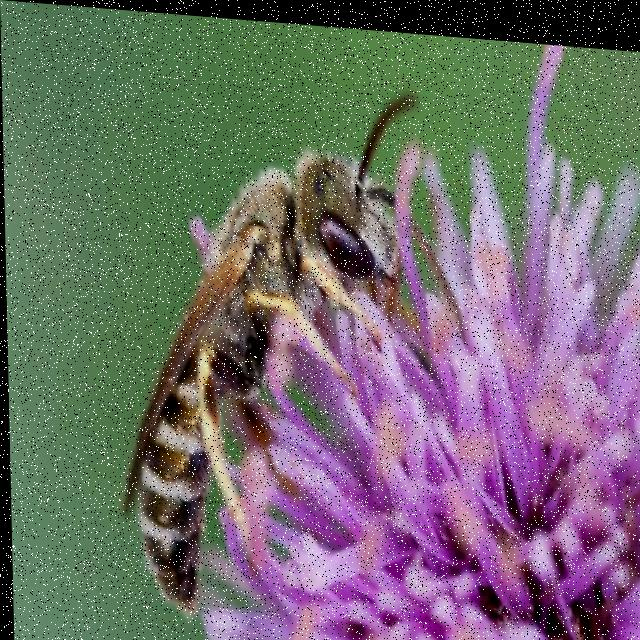Seladonia: (107, 55, 433, 630)
